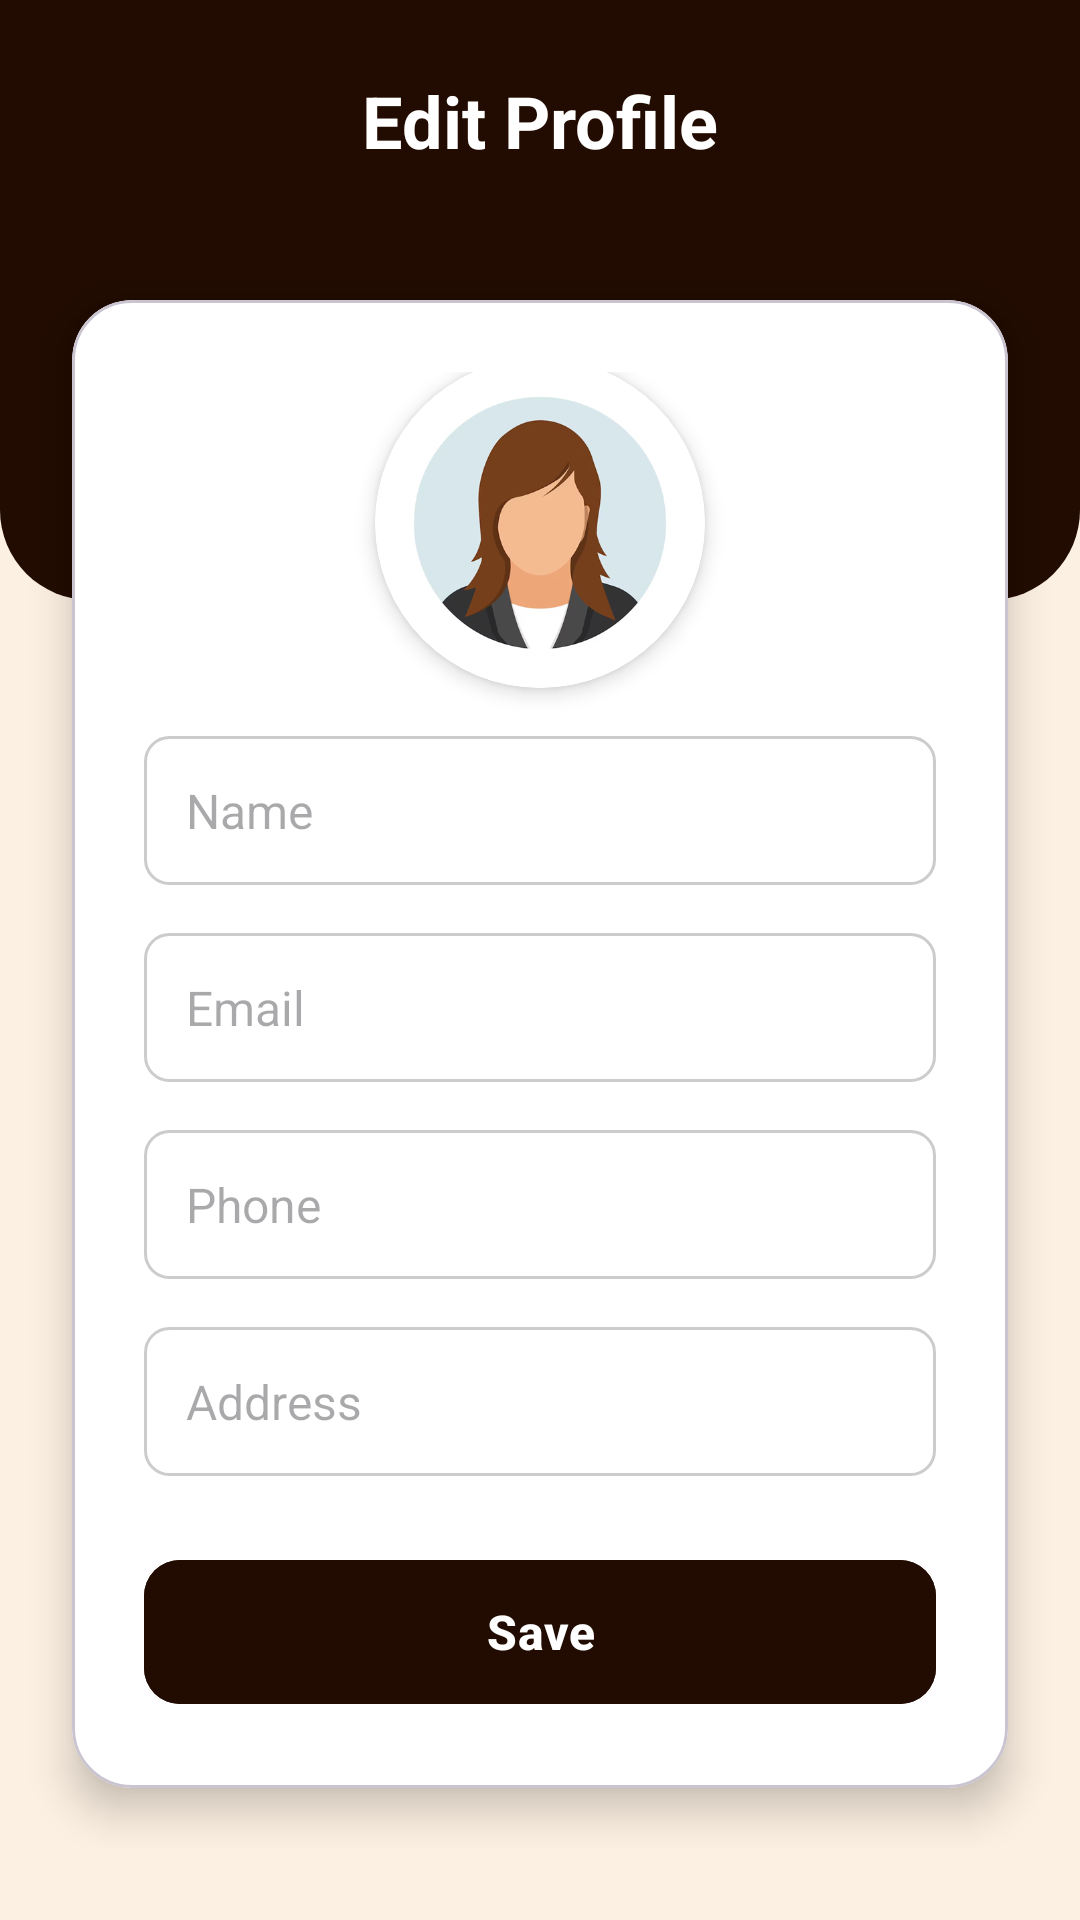

Icon click points for this 1080px×1920px phone screenshot, format (x,y):
Avatar: (540,542)
